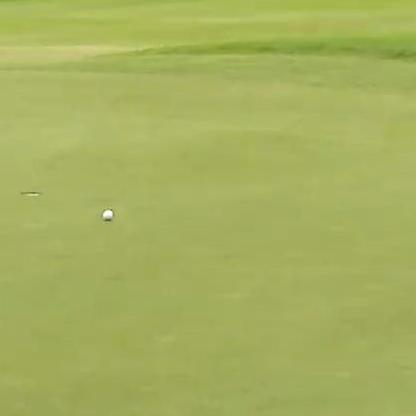golfball: (101, 210, 112, 220)
